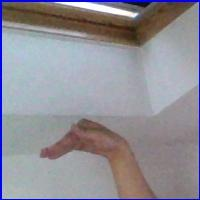A: (41, 116, 132, 171)
